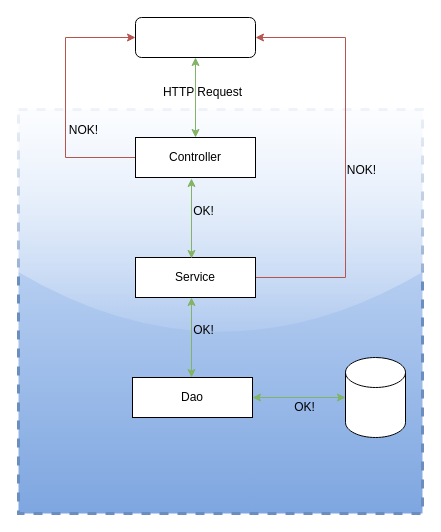
Image size: 441x532. Some labels were removed from this diagram. The box of each missing label's shape, as (x1, y1, x2, y2) in pixels:
BD: (344, 356, 406, 438)
Cliente API Rest: (134, 16, 256, 58)
